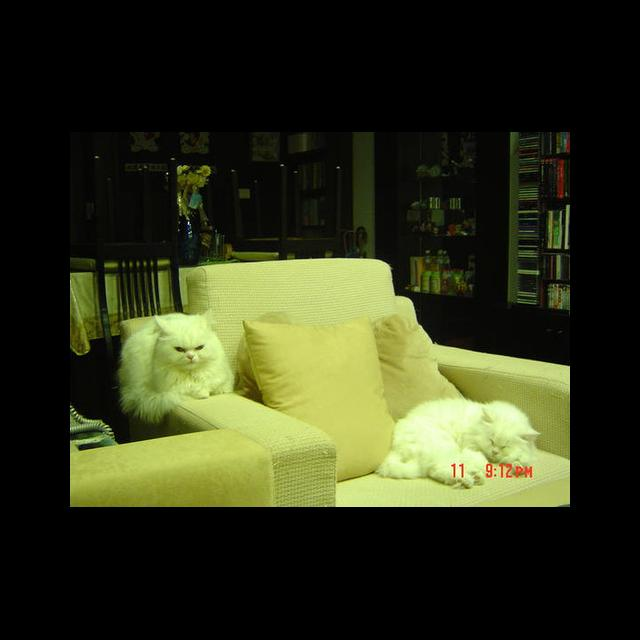animals: (155, 311, 209, 358)
